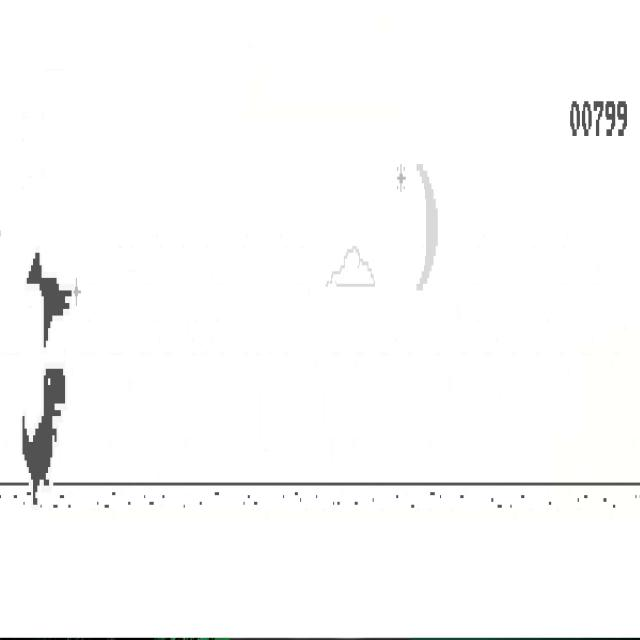dino: (22, 368, 66, 507)
ptero: (26, 250, 72, 348)
